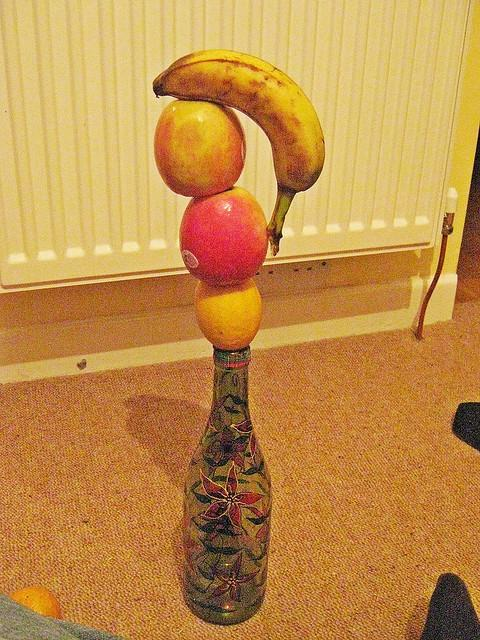apple: (178, 186, 270, 287), (154, 100, 248, 198)
banana: (152, 50, 325, 256)
lemon: (193, 278, 262, 350)
